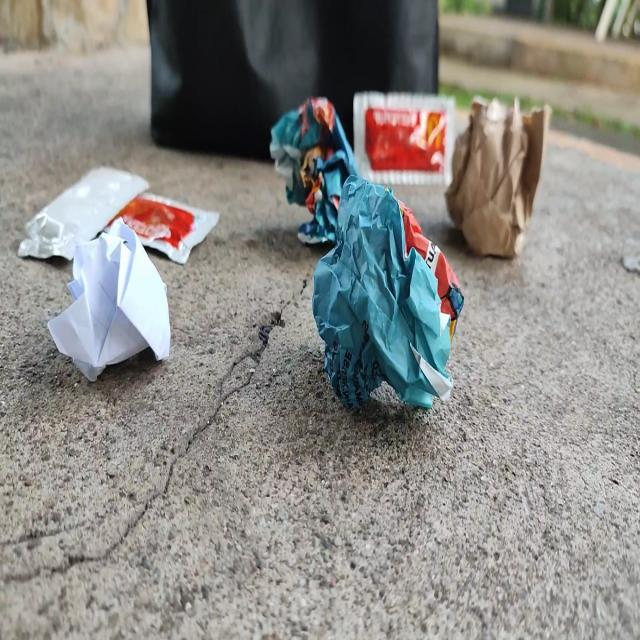paper: (304, 170, 463, 424), (38, 224, 174, 395), (445, 82, 553, 254), (268, 89, 360, 241)
